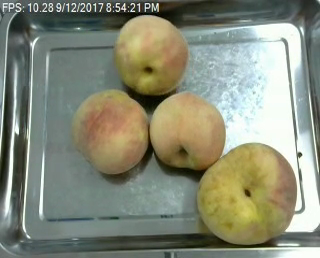Peach: (196, 141, 299, 246), (72, 89, 149, 175), (114, 13, 188, 94), (151, 92, 227, 168)
